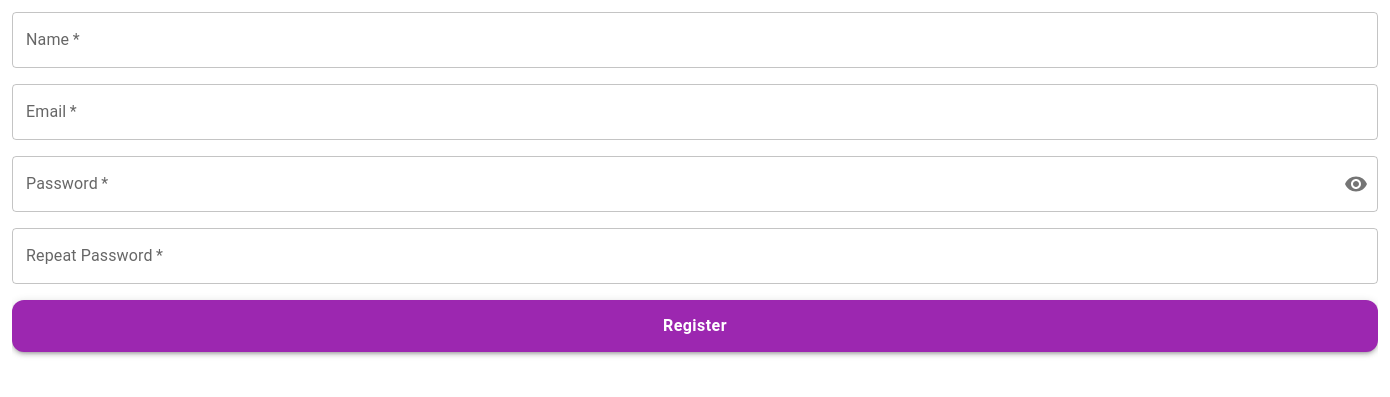
Test case: Login and Register form validation › should show error for password mismatch in register
Type "password123" into the password field labelled "Password *" at (670, 184), box [12, 156, 1328, 212]
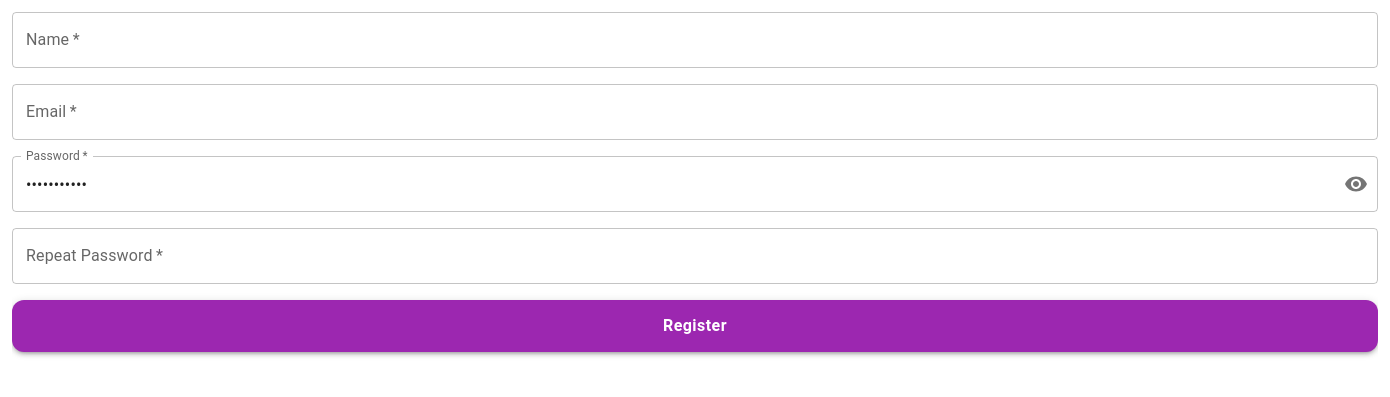
Type "differentPassword" into the password field labelled "Repeat Password *" at (695, 256), box [12, 228, 1378, 284]
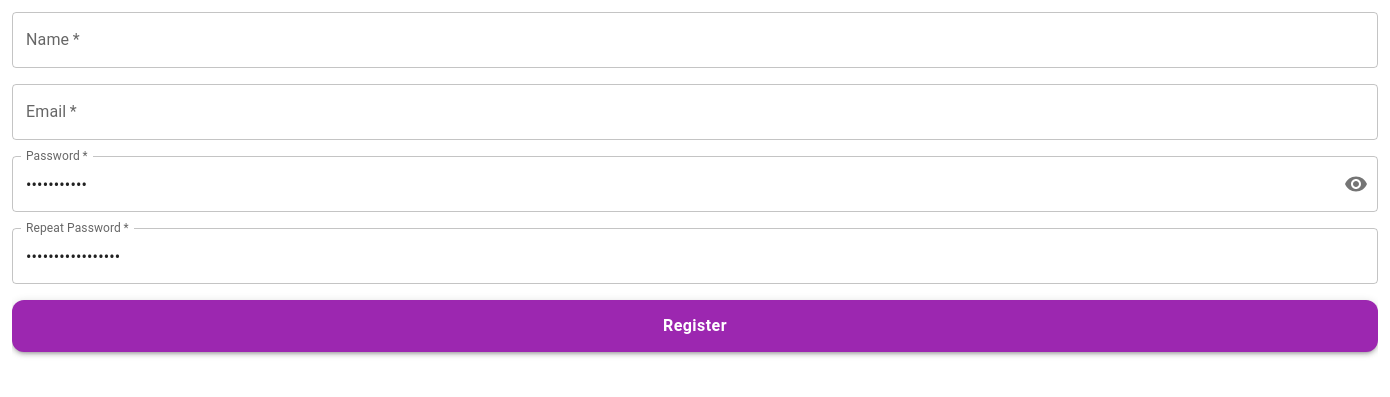
Leave the password field labelled "Repeat Password *", box [12, 228, 1378, 284]
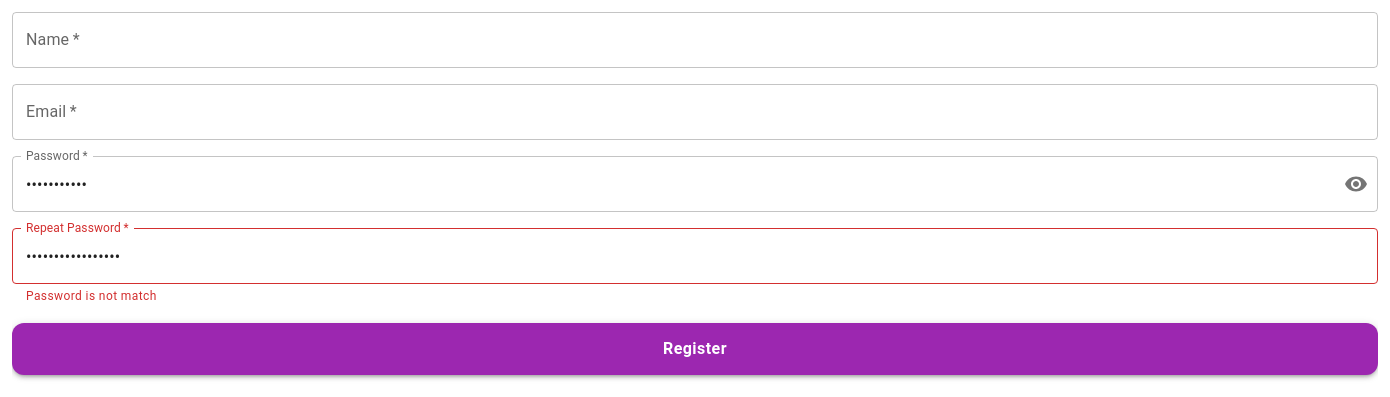
Now the text "Password is not match" is shown, box [26, 289, 157, 303]
